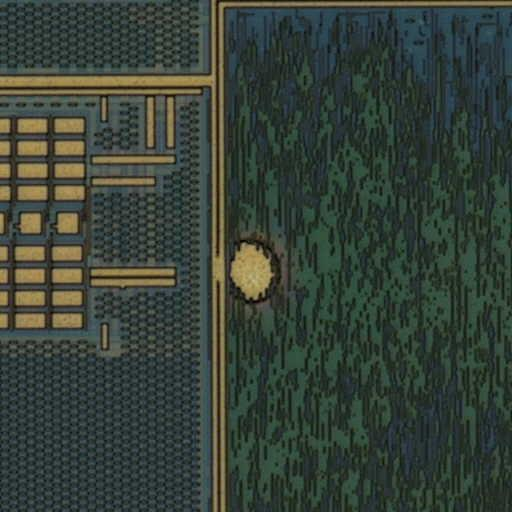BLOCK ETCH: (215, 235, 291, 311)
